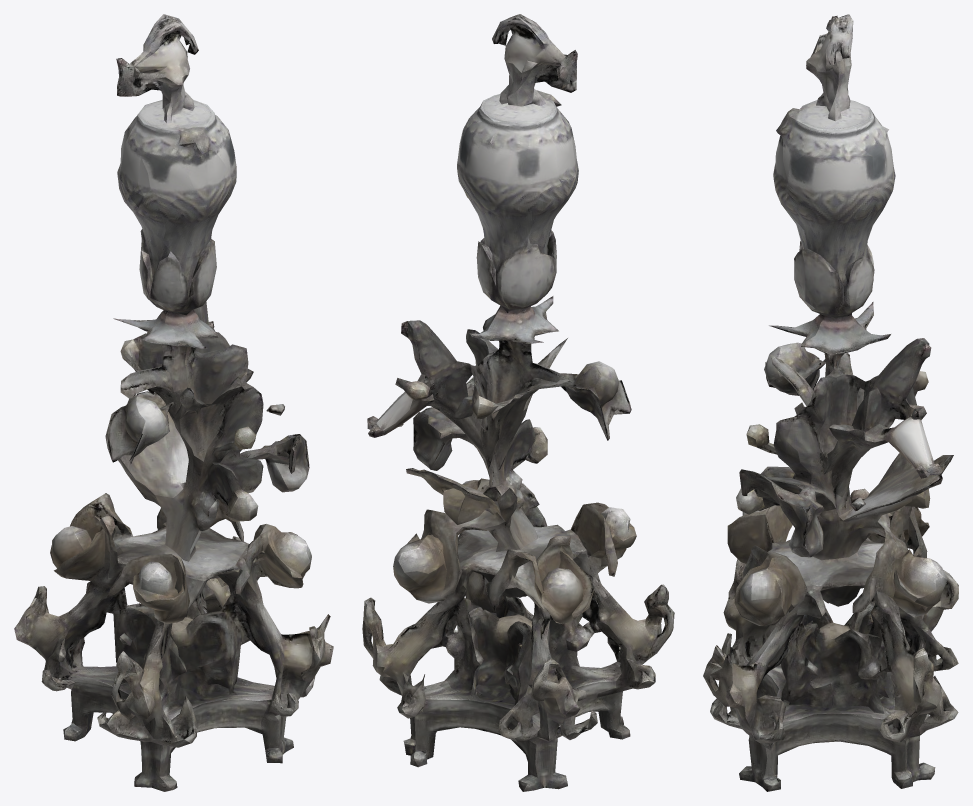
The model's file is spice_container_001.glb.
3 views of the same model, side by side, from view 1: azimuth 30°, elevation 25°; view 2: azimuth 150°, elevation 25°; view 3: azimuth 270°, elevation 25° (orthographic).
Visible parts, largest first — view 1: Layer 01; view 2: Layer 01; view 3: Layer 01.
Part boxes in pixels (x1,y1,x2,y2): Layer 01: (14,14,333,791); Layer 01: (362,14,674,791); Layer 01: (703,14,958,791).
Size of the model in its own units: 0.0859 by 0.2601 by 0.0822.
Materials: 1 (1 with a texture image).
